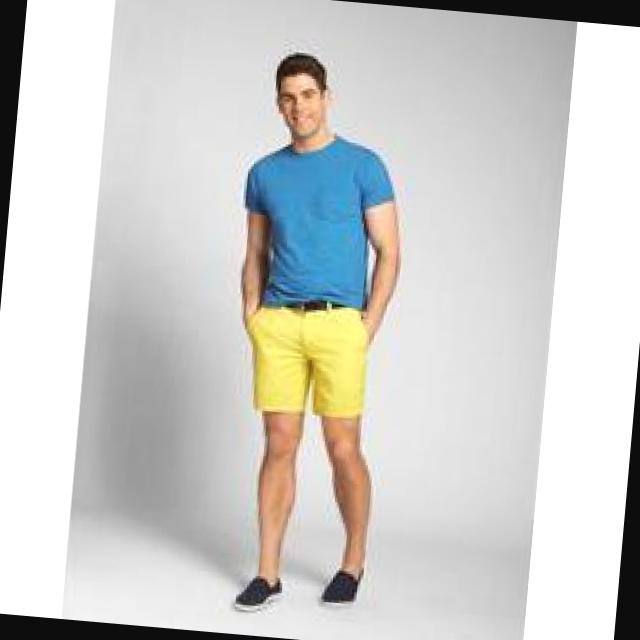Tshirt: (234, 130, 404, 320)
short: (236, 292, 373, 420)
